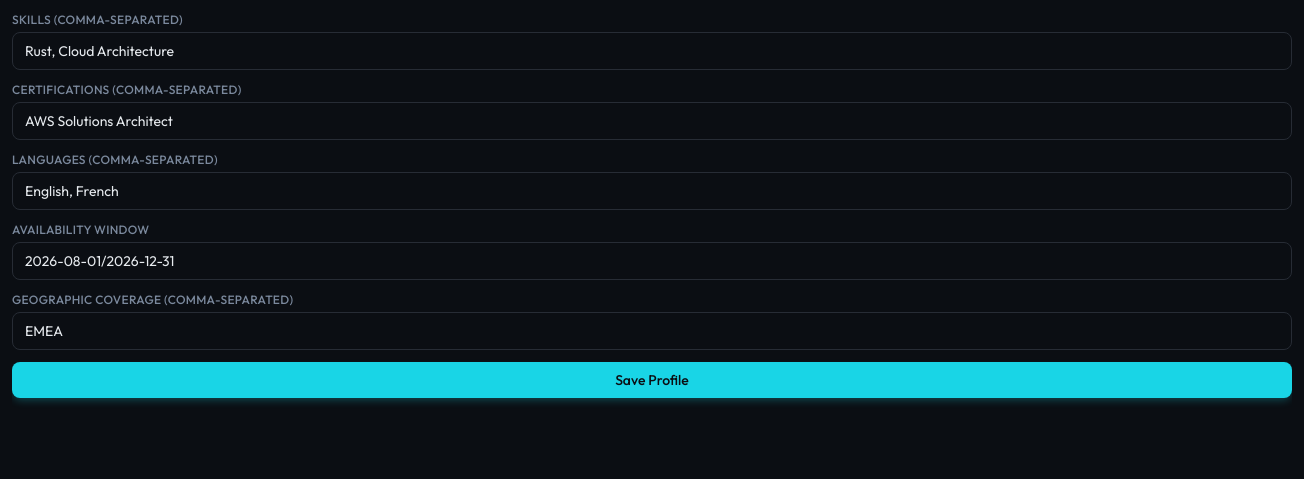
it: ProfileEditForm › shows a rejected verdict with the reason, verbatim, without crashing
Check: the field labelled "Skills (comma-separated)" holds "Rust, Cloud Architecture", box [12,32,1292,70]
What coordinates should you click on to do the following:
click the button "Save Profile"
I would click on:
 (652, 380)
Its box is [12,362,1292,398].
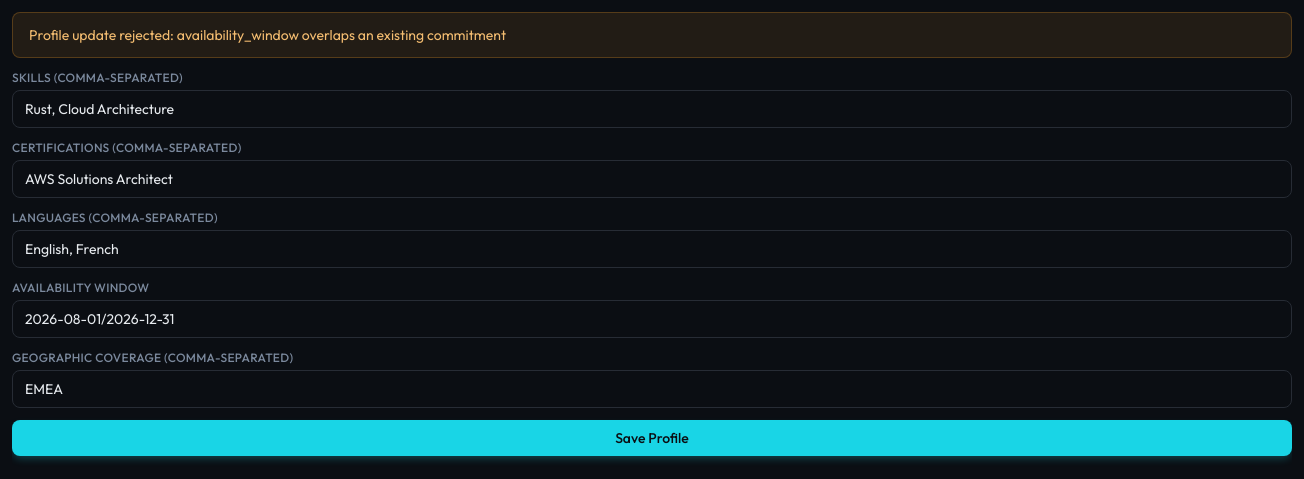
Check: the text "Profile update rejected: availability_window overlaps an existing commitment" is shown, box [12,12,1292,58]
